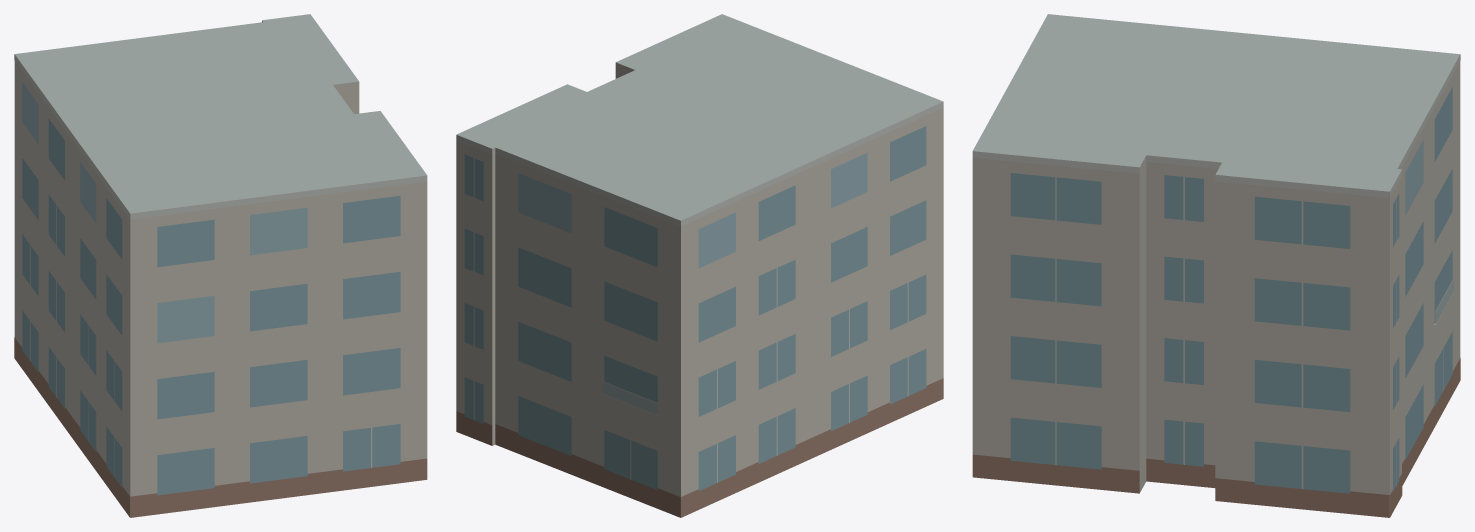
Rendered from survey-upis-32864062.glb.
The picture shows the model from 3 angles, left to right: view 1: azimuth 30°, elevation 25°; view 2: azimuth 150°, elevation 25°; view 3: azimuth 270°, elevation 25°; orthographic projection. The views are drawn at different scales.
Visible parts, largest first — view 1: survey-upis-32864062.tmp; view 2: survey-upis-32864062.tmp; view 3: survey-upis-32864062.tmp.
Boxes of the visible parts, <box> form: survey-upis-32864062.tmp: <box>14,14,427,517</box>; survey-upis-32864062.tmp: <box>456,14,943,517</box>; survey-upis-32864062.tmp: <box>972,14,1460,517</box>.
Bounding box in the file's own units: 14.26 × 12.2 × 16.55.
